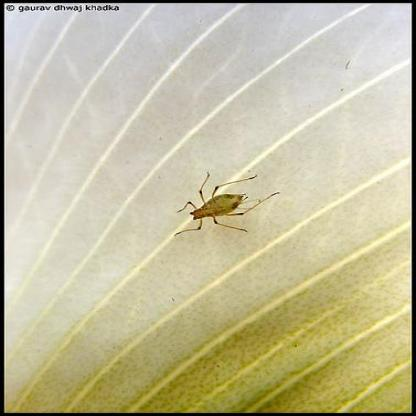aphid: (161, 172, 287, 234)
